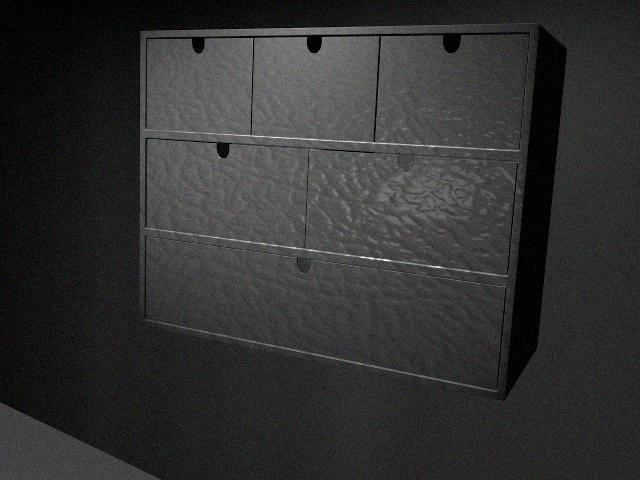cabinet_door: (146, 262, 502, 356), (306, 155, 513, 262), (376, 34, 524, 147), (146, 143, 306, 238), (252, 36, 377, 139), (146, 38, 252, 132)
